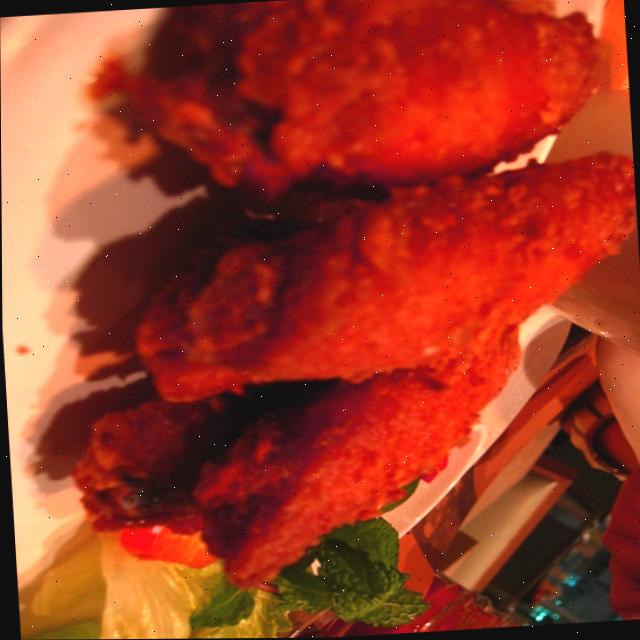鸡肉料理 含炸鸡: (26, 0, 640, 616)
